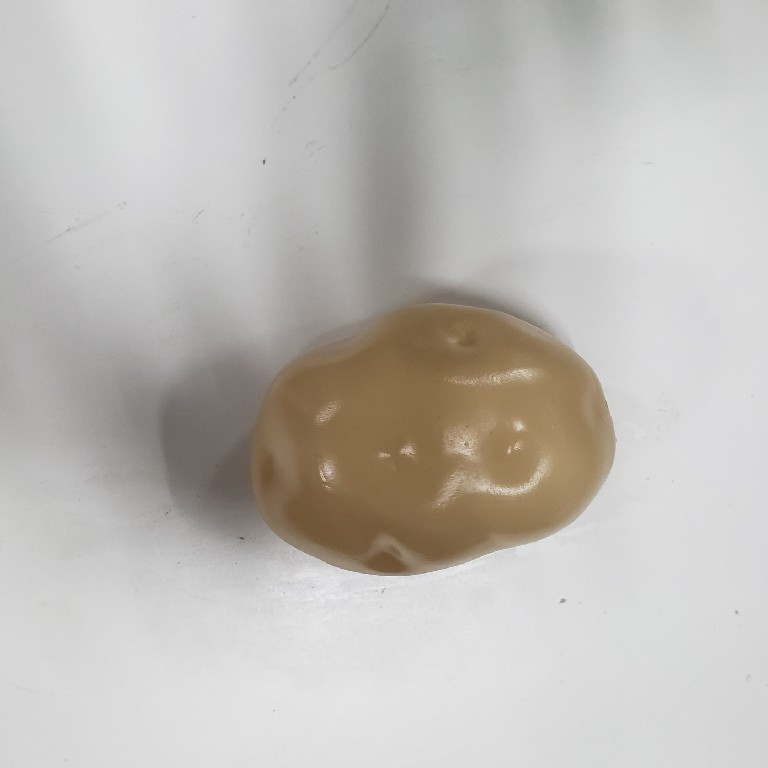fruit_potato: (244, 298, 619, 581)
